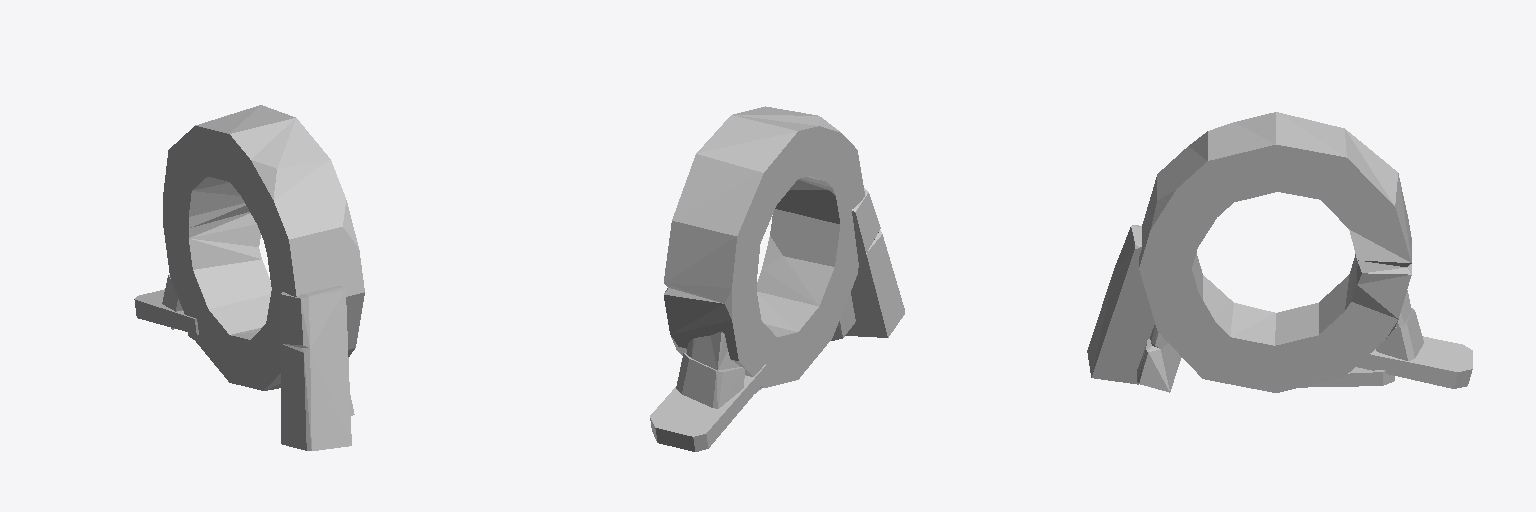
File: landmark--circle__02.obj
3 views of the same model, side by side, from view 1: azimuth 30°, elevation 25°; view 2: azimuth 150°, elevation 25°; view 3: azimuth 270°, elevation 25° (orthographic).
Parts seen in each view (by area): view 1: circle__02_Cube.002; view 2: circle__02_Cube.002; view 3: circle__02_Cube.002.
Boxes of the visible parts, x1=… form: circle__02_Cube.002: x1=134, y1=105, x2=364, y2=450; circle__02_Cube.002: x1=650, y1=106, x2=904, y2=451; circle__02_Cube.002: x1=1087, y1=112, x2=1472, y2=392.
Size of the model in its own units: 1.62 by 4.22 by 5.66.